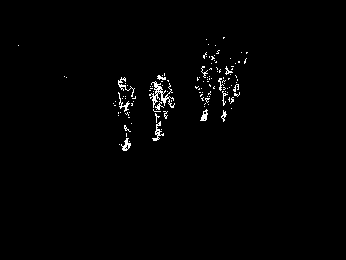person: (148, 70, 175, 143), (114, 76, 139, 153), (218, 64, 241, 124), (197, 63, 215, 123)
